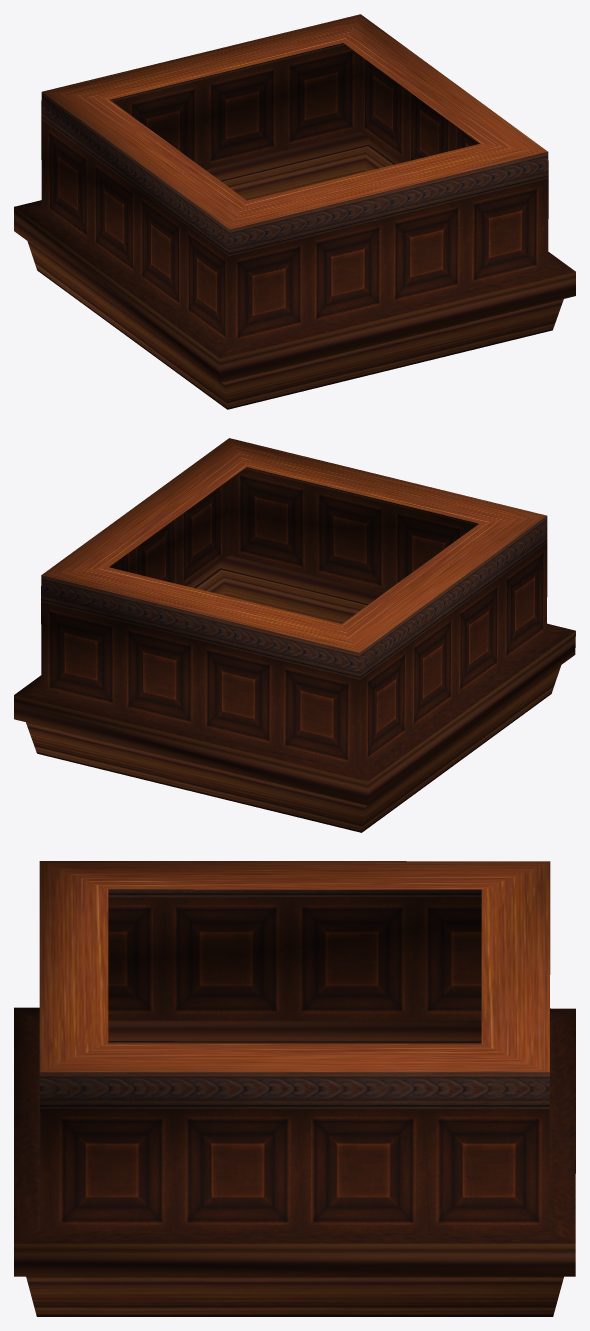
Rendered from Upperfloorbox.fbx.
3 views of the same model, one above another, from view 1: azimuth 30°, elevation 25°; view 2: azimuth 150°, elevation 25°; view 3: azimuth 270°, elevation 25° (orthographic). The views are drawn at different scales.
Visible parts, largest first — view 1: UpperStoryPieceCube; view 2: UpperStoryPieceCube; view 3: UpperStoryPieceCube.
Part boxes in pixels (bbox=[...]): UpperStoryPieceCube: bbox=[14, 14, 575, 409]; UpperStoryPieceCube: bbox=[14, 438, 575, 832]; UpperStoryPieceCube: bbox=[14, 861, 575, 1316].
Bounding box in the file's own units: 161 × 76.96 × 162.
